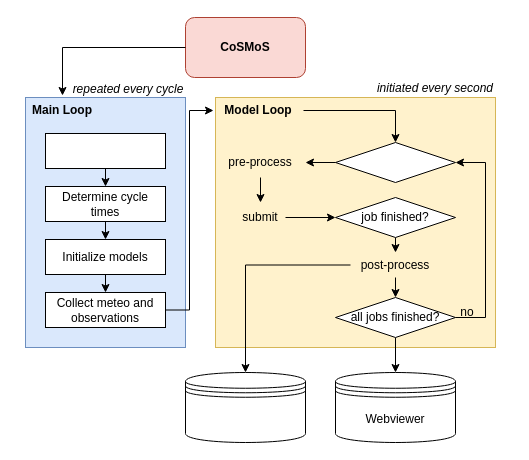
Image size: 529x460. Some labels were removed from this diagram. Here are the shapes that lost their labels. From the top down, the centre of each, then its label:
(105,150): Read scenario
(395,162): job ready?
(245,407): Archive
